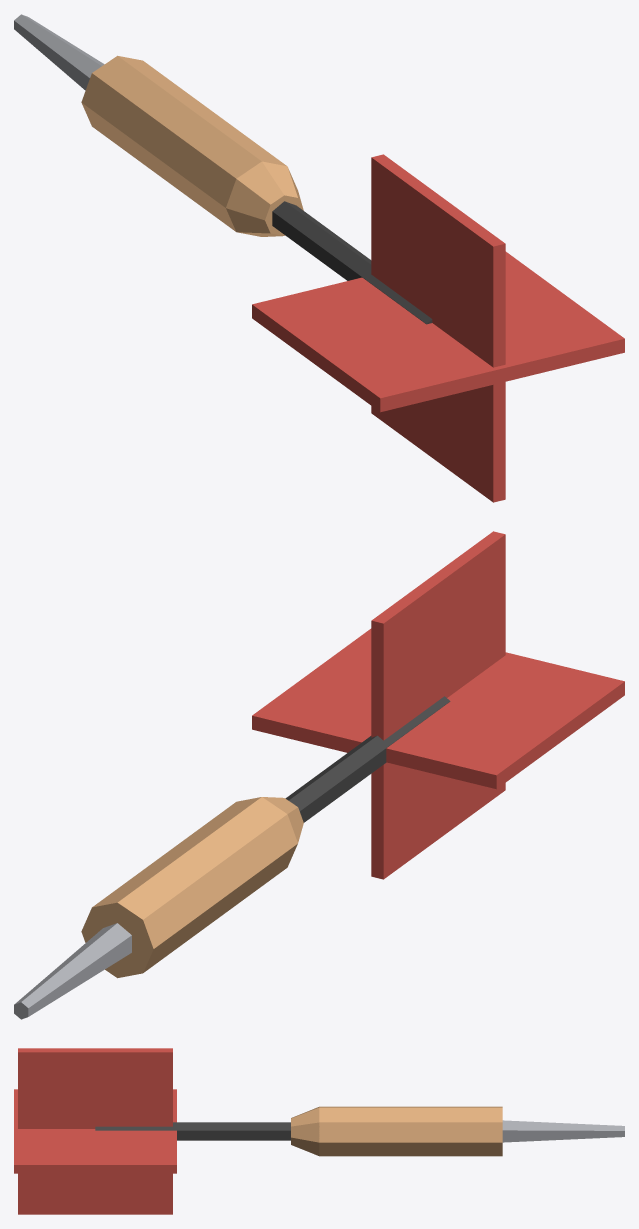
The model's file is dart.glb.
3 views of the same model, one above another, from view 1: azimuth 30°, elevation 25°; view 2: azimuth 150°, elevation 25°; view 3: azimuth 270°, elevation 25° (orthographic). The views are drawn at different scales.
Visible parts, largest first — view 1: Dart; view 2: Dart; view 3: Dart.
Boxes of the visible parts, left/top/right/bottom form: Dart: left=14, top=14, right=624, bottom=502; Dart: left=14, top=531, right=624, bottom=1019; Dart: left=14, top=1048, right=624, bottom=1214.
Bounding box in the file's own units: 0.0616 × 0.0616 × 0.21.
